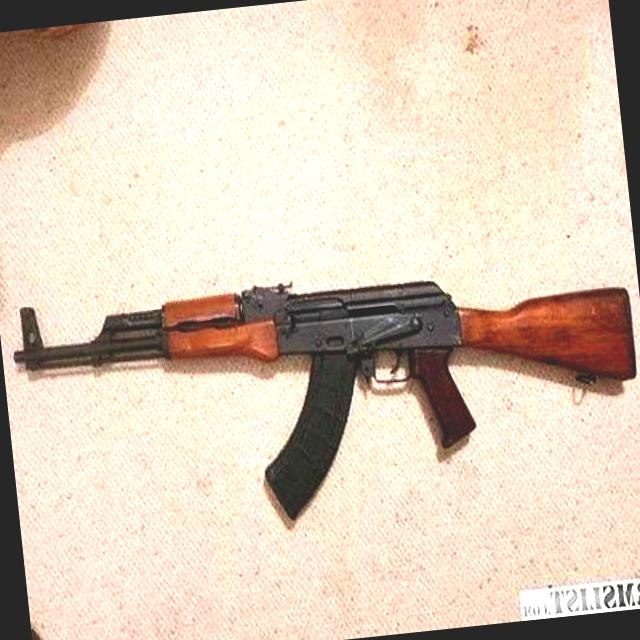ak: (0, 238, 640, 559)
